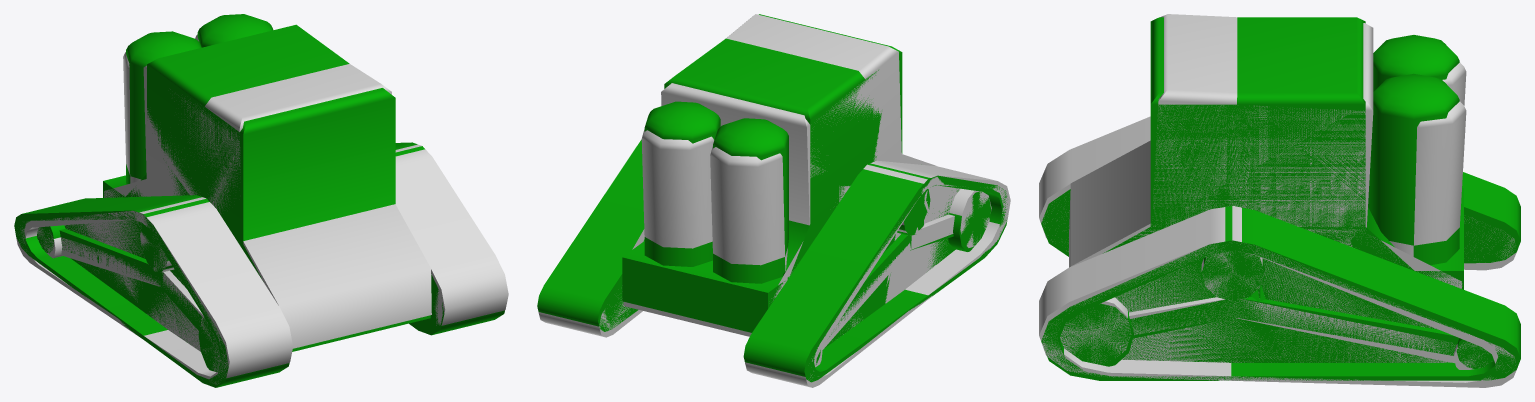
File: EXPEnemy_0_2.fbx
3 views of the same model, side by side, from view 1: azimuth 30°, elevation 25°; view 2: azimuth 150°, elevation 25°; view 3: azimuth 270°, elevation 25° (orthographic). The views are drawn at different scales.
Visible parts, largest first — view 1: pasted__polymsh, polySurface10, polySurface24, polySurface12, polySurface14, polySurface21, polySurface1, polySurface11, polySurface23, polySurface13, polySurface25, polySurface8 (+4 smaller); view 2: pasted__polymsh, polySurface14, polySurface10, polySurface7, polySurface15, polySurface18, polySurface1, polySurface17, polySurface12, polySurface8, polySurface19, polySurface11 (+3 smaller); view 3: pasted__polymsh, polySurface24, polySurface16, polySurface13, polySurface21, polySurface9, polySurface17, polySurface14, polySurface15, polySurface18, polySurface10, polySurface12 (+5 smaller).
Part boxes in pixels (x1=…): pasted__polymsh: x1=14, y1=14, x2=504, y2=387; polySurface10: x1=137, y1=251, x2=338, y2=384; polySurface24: x1=406, y1=177, x2=508, y2=324; polySurface12: x1=209, y1=87, x2=343, y2=297; polySurface14: x1=143, y1=64, x2=360, y2=215; polySurface21: x1=326, y1=71, x2=409, y2=300; polySurface1: x1=64, y1=132, x2=187, y2=334; polySurface11: x1=150, y1=198, x2=262, y2=280; polySurface23: x1=335, y1=258, x2=431, y2=337; polySurface13: x1=395, y1=149, x2=445, y2=186; polySurface25: x1=401, y1=231, x2=431, y2=303; polySurface8: x1=16, y1=186, x2=124, y2=267; pasted__polymsh: x1=537, y1=14, x2=1007, y2=382; polySurface14: x1=725, y1=28, x2=909, y2=177; polySurface10: x1=897, y1=162, x2=1010, y2=304; polySurface7: x1=655, y1=189, x2=784, y2=315; polySurface15: x1=661, y1=83, x2=783, y2=202; polySurface18: x1=641, y1=129, x2=709, y2=222; polySurface1: x1=782, y1=172, x2=937, y2=335; polySurface17: x1=538, y1=202, x2=668, y2=337; polySurface12: x1=781, y1=25, x2=924, y2=164; polySurface8: x1=662, y1=271, x2=832, y2=387; polySurface19: x1=710, y1=154, x2=745, y2=210; polySurface11: x1=865, y1=160, x2=955, y2=185; pasted__polymsh: x1=1041, y1=17, x2=1520, y2=380; polySurface24: x1=1039, y1=239, x2=1180, y2=378; polySurface16: x1=1221, y1=229, x2=1417, y2=385; polySurface13: x1=1166, y1=212, x2=1284, y2=381; polySurface21: x1=1070, y1=63, x2=1232, y2=244; polySurface9: x1=1218, y1=115, x2=1367, y2=241; polySurface17: x1=1381, y1=195, x2=1517, y2=387; polySurface14: x1=1160, y1=14, x2=1373, y2=116; polySurface15: x1=1253, y1=43, x2=1464, y2=206; polySurface18: x1=1415, y1=101, x2=1466, y2=204; polySurface10: x1=1039, y1=116, x2=1150, y2=260; polySurface12: x1=1070, y1=47, x2=1185, y2=209.
Bounding box in the file's own units: 8.79 × 7 × 11.76.
